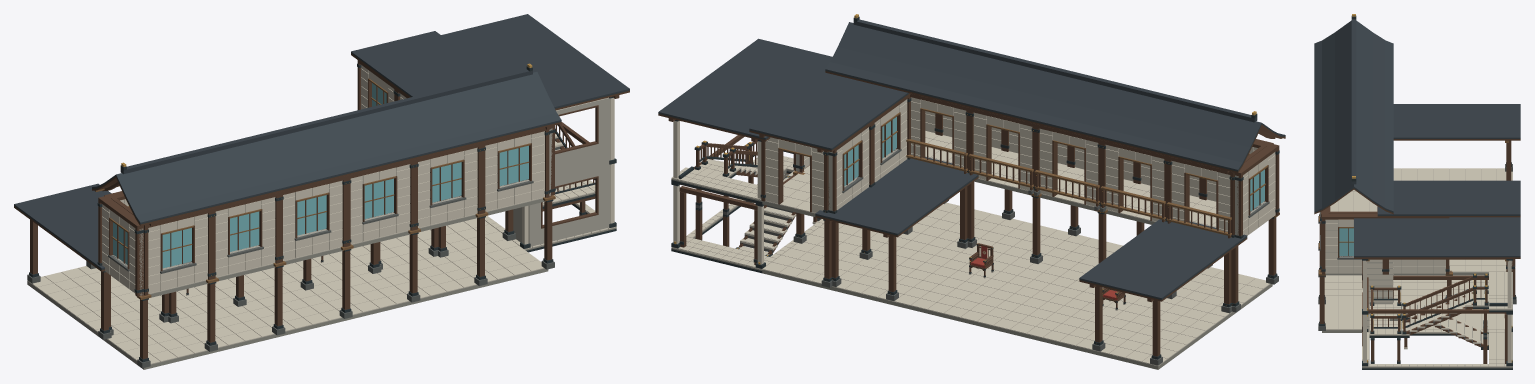
3 renders of one model, left to right at view 1: azimuth 30°, elevation 25°; view 2: azimuth 150°, elevation 25°; view 3: azimuth 270°, elevation 25°, orthographic. The views are drawn at different scales.
Visible parts, largest first — view 1: 真实窗洞与玻璃 (×8), 连续屋面 · gable, 石铺面与混凝土楼板 (×13), 连续屋面 · flat (×3), 服务翼侧出口派生 · 原母版另存, 木柱、石础与金属抱箍 (×9), 共享楼梯半转平台; view 2: 石铺面与混凝土楼板 (×22), 连续屋面 · flat (×4), 连续屋面 · gable, 真实门洞墙 (×6), 真实窗洞与玻璃 (×7), 服务翼侧出口派生 · 原母版另存, 木柱、石础与金属抱箍 (×10), 廊边木栏与实际竖梃 (×5), 共享双跑回行踏步, 共享双跑上行踏步, waterfront purpose 2; view 3: 连续屋面 · flat (×3), 连续屋面 · gable, 石铺面与混凝土楼板 (×9), 服务翼侧出口派生 · 原母版另存, 真实窗洞与玻璃 (×2), 共享双跑回行踏步, 共享楼梯半转平台, 共享双跑上行踏步, 木柱、石础与金属抱箍 (×2).
Part boxes in pixels (box(x1,y1,x2,y2)): 真实窗洞与玻璃 (×8): box(97, 60, 549, 296); 连续屋面 · gable: box(92, 63, 561, 226); 石铺面与混凝土楼板 (×13): box(27, 218, 548, 369); 连续屋面 · flat (×3): box(14, 14, 629, 271); 服务翼侧出口派生 · 原母版另存: box(485, 97, 616, 252); 木柱、石础与金属抱箍 (×9): box(27, 195, 555, 368); 共享楼梯半转平台: box(542, 178, 595, 215); 石铺面与混凝土楼板 (×22): box(762, 135, 1272, 369); 连续屋面 · flat (×4): box(658, 38, 1247, 302); 连续屋面 · gable: box(825, 14, 1285, 173); 真实门洞墙 (×6): box(760, 94, 1234, 237); 真实窗洞与玻璃 (×7): box(828, 95, 1279, 238); 服务翼侧出口派生 · 原母版另存: box(671, 120, 824, 273); 木柱、石础与金属抱箍 (×10): box(821, 182, 1279, 365); 廊边木栏与实际竖梃 (×5): box(906, 139, 1231, 238); 共享双跑回行踏步: box(694, 140, 757, 215); 共享双跑上行踏步: box(735, 175, 817, 256); waterfront purpose 2: box(969, 243, 994, 278); 连续屋面 · flat (×3): box(1354, 104, 1520, 261); 连续屋面 · gable: box(1314, 14, 1393, 214); 石铺面与混凝土楼板 (×9): box(1322, 168, 1512, 332); 服务翼侧出口派生 · 原母版另存: box(1362, 259, 1512, 369); 真实窗洞与玻璃 (×2): box(1321, 213, 1449, 274); 共享双跑回行踏步: box(1401, 273, 1488, 337); 共享楼梯半转平台: box(1369, 285, 1401, 363); 共享双跑上行踏步: box(1401, 304, 1488, 349); 木柱、石础与金属抱箍 (×2): box(1318, 140, 1511, 330).
Bounding box in the file's own units: 24.4 × 8.74 × 10.4.
Materials: 17 (17 with a texture image).
